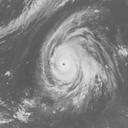cyclone: (40, 9, 110, 110)
